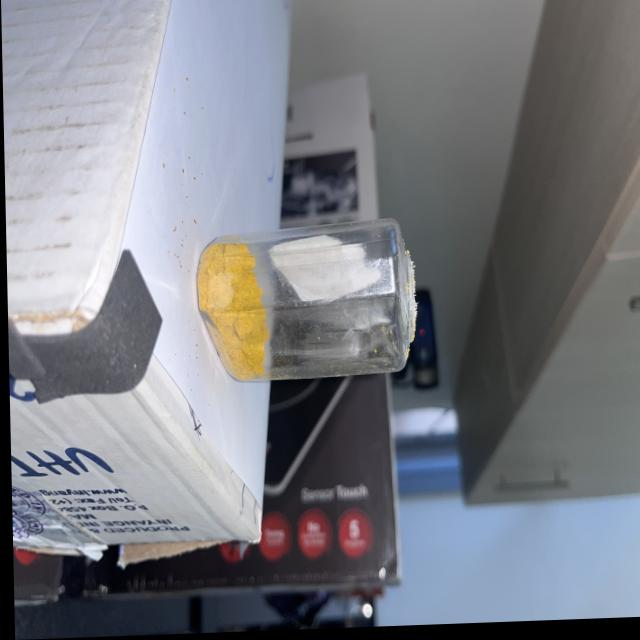curry_powder: (194, 242, 266, 381)
